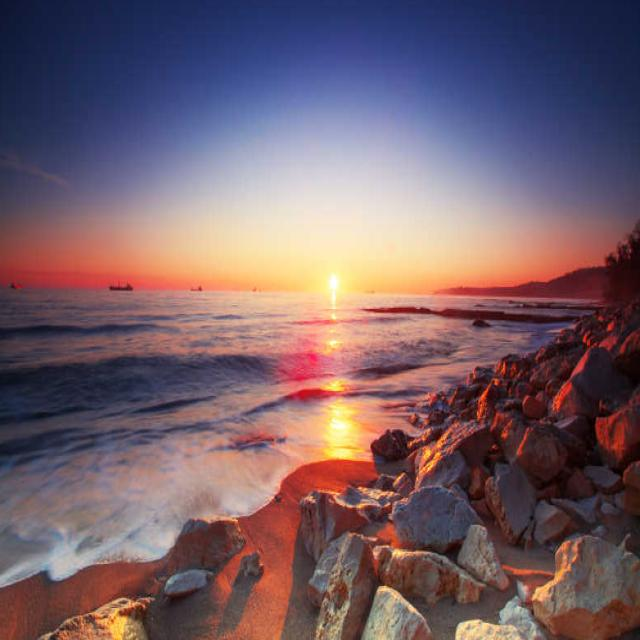reef: (371, 358, 523, 515)
